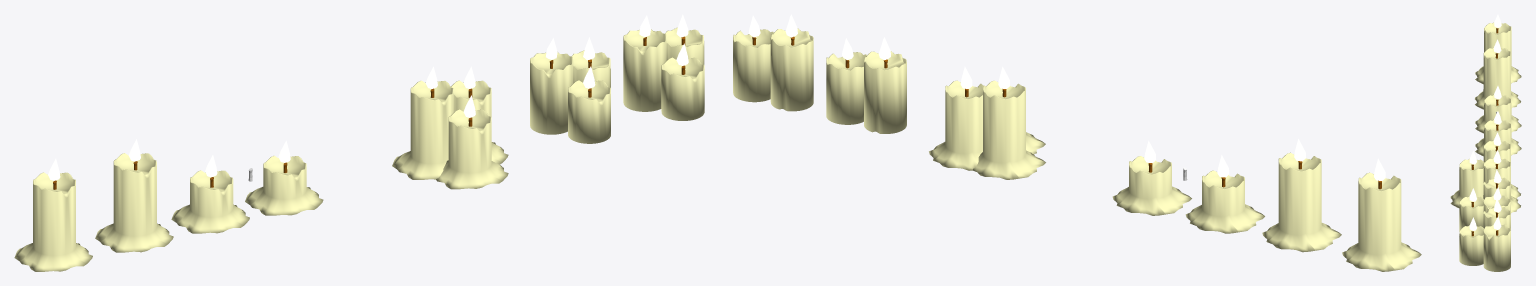
File: velas_completas.gltf
3 renders of one model, left to right at view 1: azimuth 30°, elevation 25°; view 2: azimuth 150°, elevation 25°; view 3: azimuth 270°, elevation 25°, orthographic. The views are drawn at different scales.
Parts seen in each view (by area): view 1: Cylinder.019, Cylinder.007, Cylinder.008, Cylinder.006, Cylinder.012, Cylinder.016, Cylinder.004, Cylinder.000, Cylinder.014, Cylinder.011, Cylinder.015; view 2: Cylinder.019, Cylinder.007, Cylinder.006, Cylinder.008, Cylinder.011, Cylinder.016, Cylinder.004, Cylinder.000, Cylinder.015; view 3: Cylinder.019, Cylinder.007, Cylinder.012, Cylinder.008, Cylinder.000, Cylinder.004, Cylinder.014, Cylinder.011, Cylinder.006, Cylinder.016, Cylinder.015, Cylinder.002 (+1 smaller).
Part boxes in pixels (x1,y1,x2,y2): Cylinder.019: (623, 14, 704, 120); Cylinder.007: (95, 139, 173, 252); Cylinder.008: (14, 172, 92, 271); Cylinder.006: (392, 66, 453, 179); Cylinder.012: (436, 95, 508, 189); Cylinder.016: (530, 38, 573, 134); Cylinder.004: (245, 140, 323, 215); Cylinder.000: (171, 170, 249, 233); Cylinder.014: (568, 66, 610, 143); Cylinder.011: (451, 66, 508, 164); Cylinder.015: (571, 37, 610, 87); Cylinder.019: (733, 14, 813, 111); Cylinder.007: (1262, 139, 1341, 252); Cylinder.006: (972, 66, 1045, 179); Cylinder.008: (1342, 172, 1421, 271); Cylinder.011: (929, 66, 983, 170); Cylinder.016: (864, 37, 906, 133); Cylinder.004: (1112, 140, 1191, 215); Cylinder.000: (1185, 170, 1264, 233); Cylinder.015: (826, 38, 866, 124); Cylinder.019: (1459, 199, 1510, 271); Cylinder.007: (1475, 39, 1520, 109); Cylinder.012: (1450, 151, 1484, 207); Cylinder.008: (1475, 22, 1521, 84); Cylinder.000: (1475, 95, 1521, 133); Cylinder.004: (1475, 111, 1521, 156); Cylinder.014: (1459, 188, 1484, 231); Cylinder.011: (1483, 150, 1520, 212); Cylinder.006: (1483, 132, 1520, 198); Cylinder.016: (1483, 169, 1510, 199); Cylinder.015: (1483, 187, 1510, 212); Cylinder.002: (1494, 86, 1501, 99).
Bounding box in the file's own units: 16.11 × 2.21 × 2.28.
